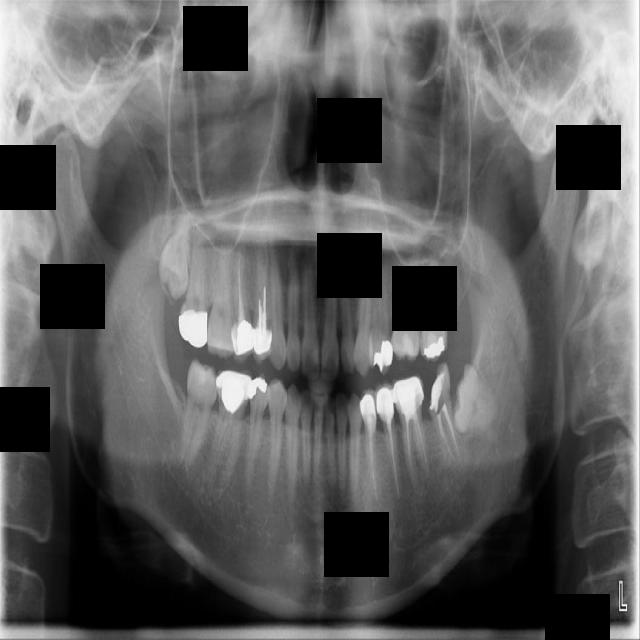3M ESPE Implant: (158, 209, 191, 300)
52: (211, 370, 253, 414), (390, 375, 427, 417), (427, 361, 454, 416), (177, 308, 209, 350), (418, 320, 448, 361), (390, 325, 421, 362), (230, 320, 256, 362), (244, 375, 274, 411), (368, 336, 393, 374), (251, 325, 272, 364), (374, 383, 395, 421), (358, 390, 377, 422)
73: (397, 404, 435, 488), (379, 412, 411, 499), (223, 244, 254, 332), (427, 390, 463, 463), (253, 251, 274, 331), (363, 420, 379, 504)
BioHorizons Implant: (413, 254, 450, 362)
Biomet 3i Implant: (448, 361, 504, 439)
Blue Sky Bio Implant: (422, 362, 462, 463)
Caries: (177, 223, 209, 351)
Implant: (179, 358, 222, 468)
